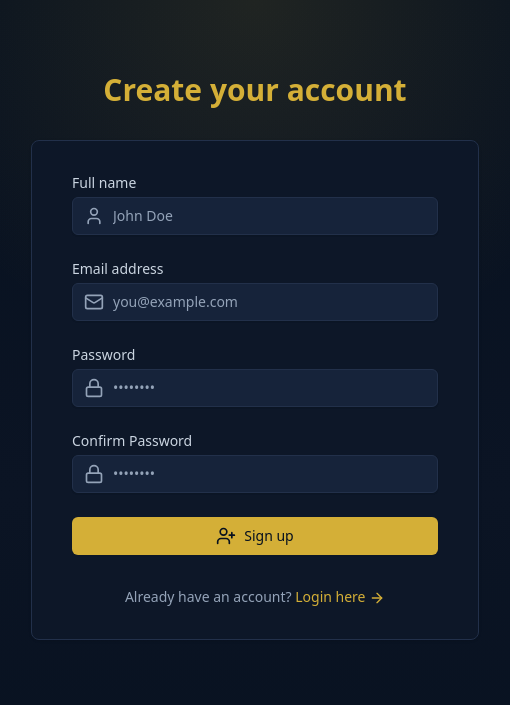
Test case: SignUp Page Frontend Validation › displays validation errors for invalid email format and short password
The width and height of the screenshot is (510, 705).
Note: Type bad data
Type "Rawda" into the field labelled "Full name" at coordinates (255, 216), box [72,197,438,235]
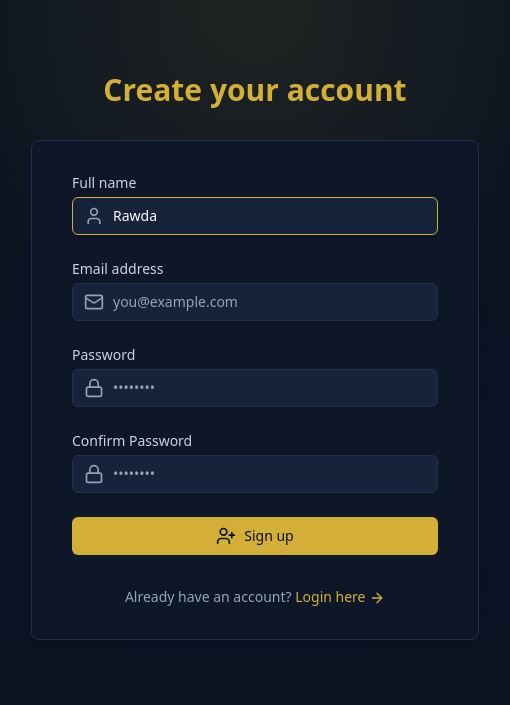
Type "not-an-email" into the field labelled "Email address" at coordinates (255, 302), box [72,283,438,321]
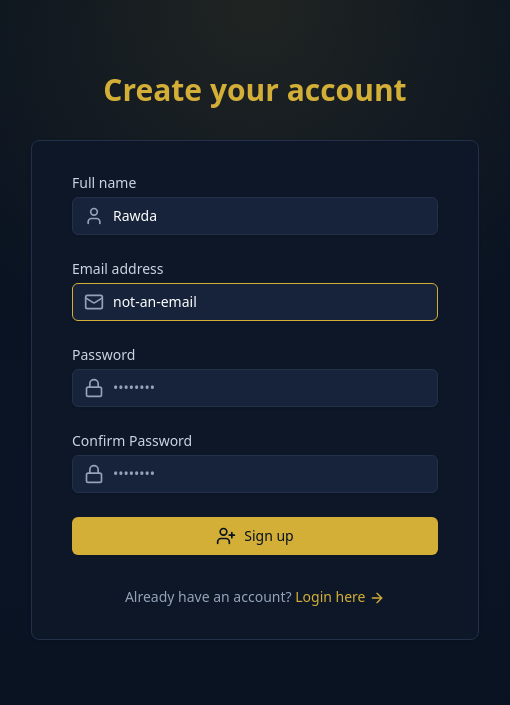
Type "123" into the password field labelled "Password" at coordinates (255, 388), box [72,369,438,407]
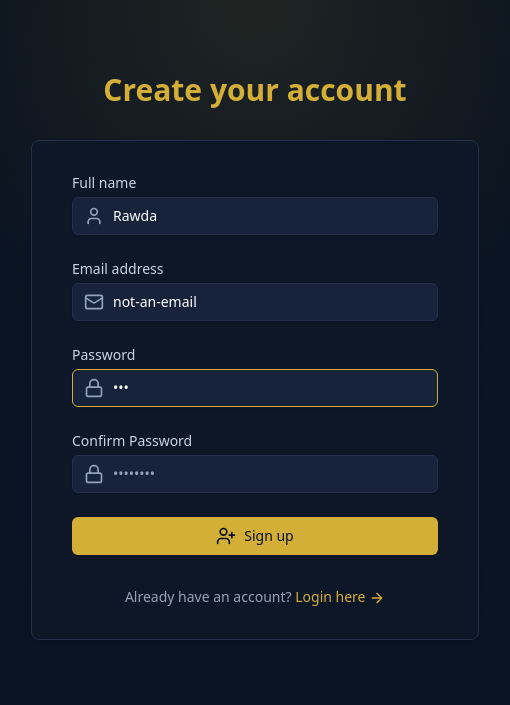
Type "123" into the password field labelled "Confirm Password" at coordinates (255, 474), box [72,455,438,493]
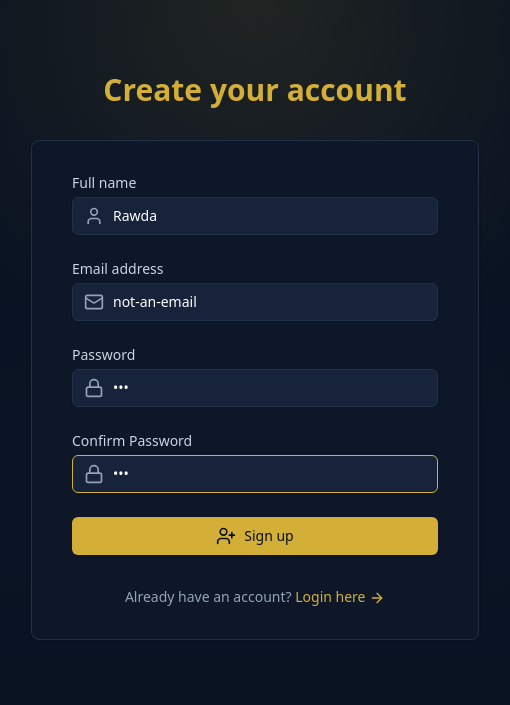
Click the button "Sign up" at coordinates (255, 536), box [72,517,438,555]
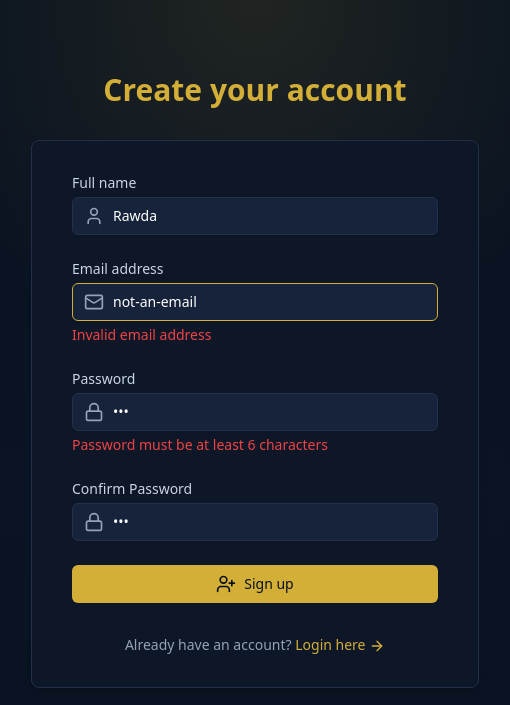
Check: the text "Invalid email address" is shown, box [72,325,211,344]
Check: the text "Password must be at least 6 characters" is shown, box [72,435,328,454]
